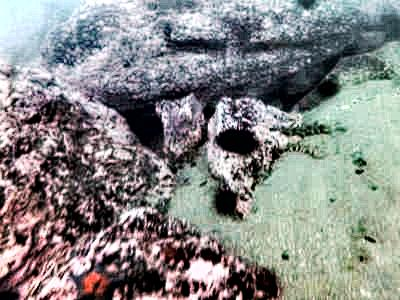urchin: (212, 125, 254, 154), (215, 184, 239, 216)
